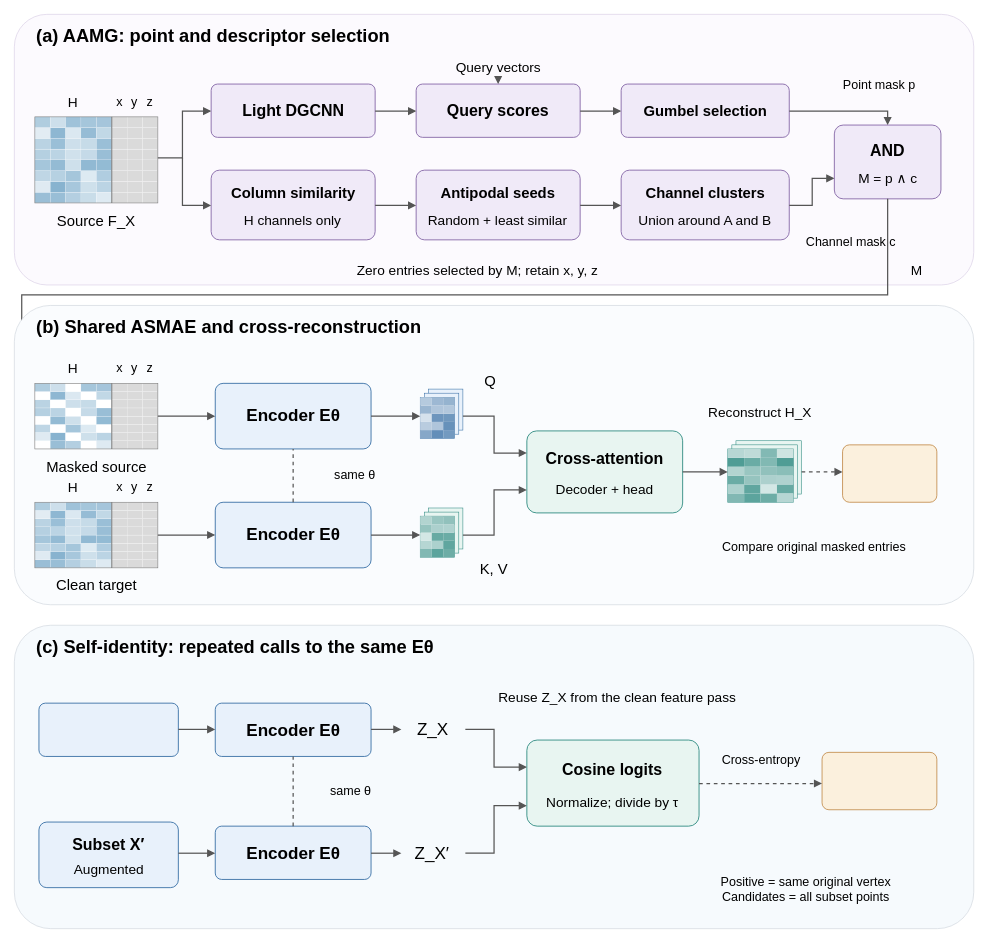
Some shapes in this 988 by 943 pixel diagram are drawn without their labels. Here are the shapes that lost their labels. From the top down, the centre of each, then its label:
the point at 889,473: L_rec
the point at 108,729: Clean full X
the point at 879,781: L_self
